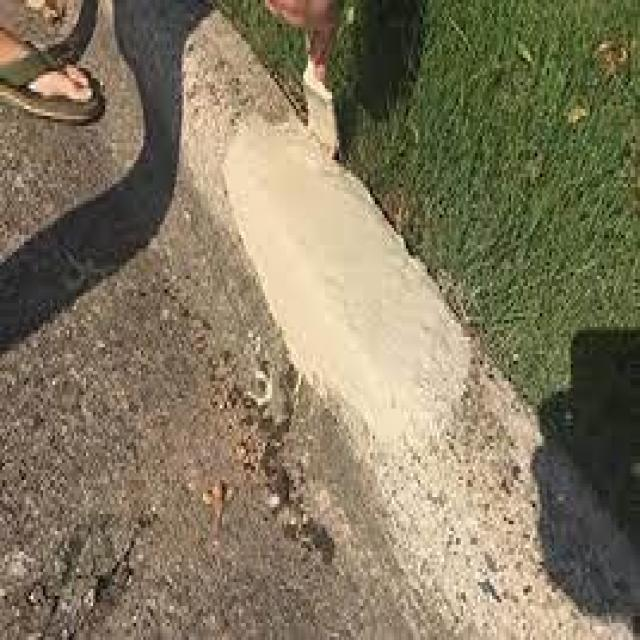curb: (77, 21, 633, 634)
